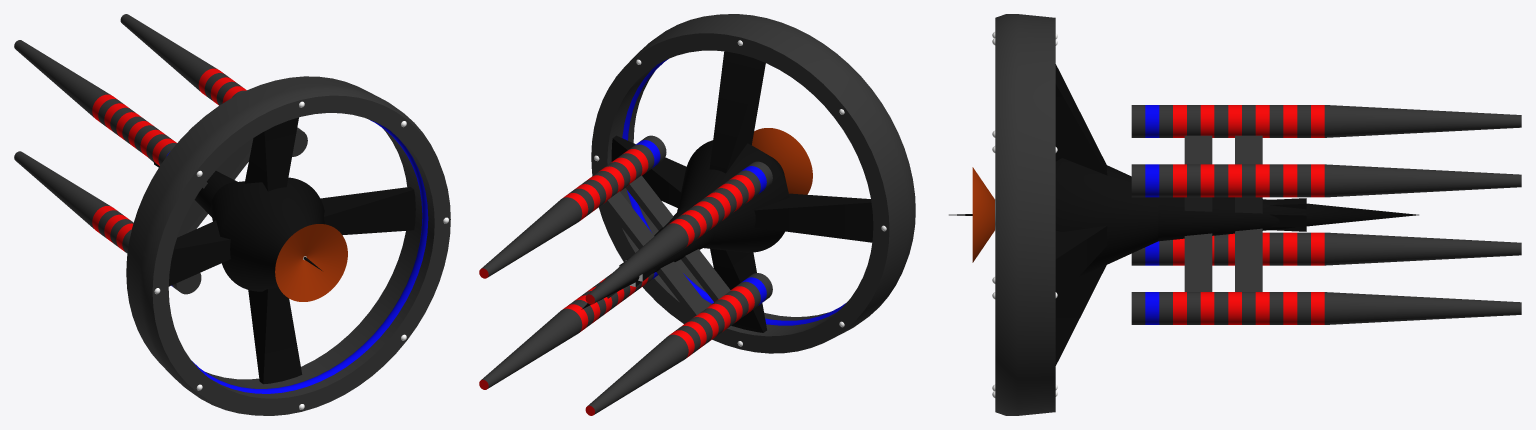
File: NzProbe.FBX
The picture shows the model from 3 angles, left to right: view 1: azimuth 30°, elevation 25°; view 2: azimuth 150°, elevation 25°; view 3: azimuth 270°, elevation 25°; orthographic projection. The views are drawn at different scales.
Parts seen in each view (by area): view 1: Engine, NyProbe, Radiators; view 2: Engine, Radiators, NyProbe; view 3: Radiators, Engine, NyProbe.
Part boxes in pixels (box(x1,y1,x2,y2)): Engine: box(126, 76, 450, 415); NyProbe: box(154, 117, 415, 384); Radiators: box(14, 14, 307, 294); Engine: box(591, 14, 915, 353); Radiators: box(479, 135, 772, 415); NyProbe: box(581, 51, 873, 332); Radiators: box(1131, 105, 1521, 324); Engine: box(992, 14, 1057, 415); NyProbe: box(949, 64, 1418, 365).
Bounding box in the file's own units: 2 × 2 × 2.87.
